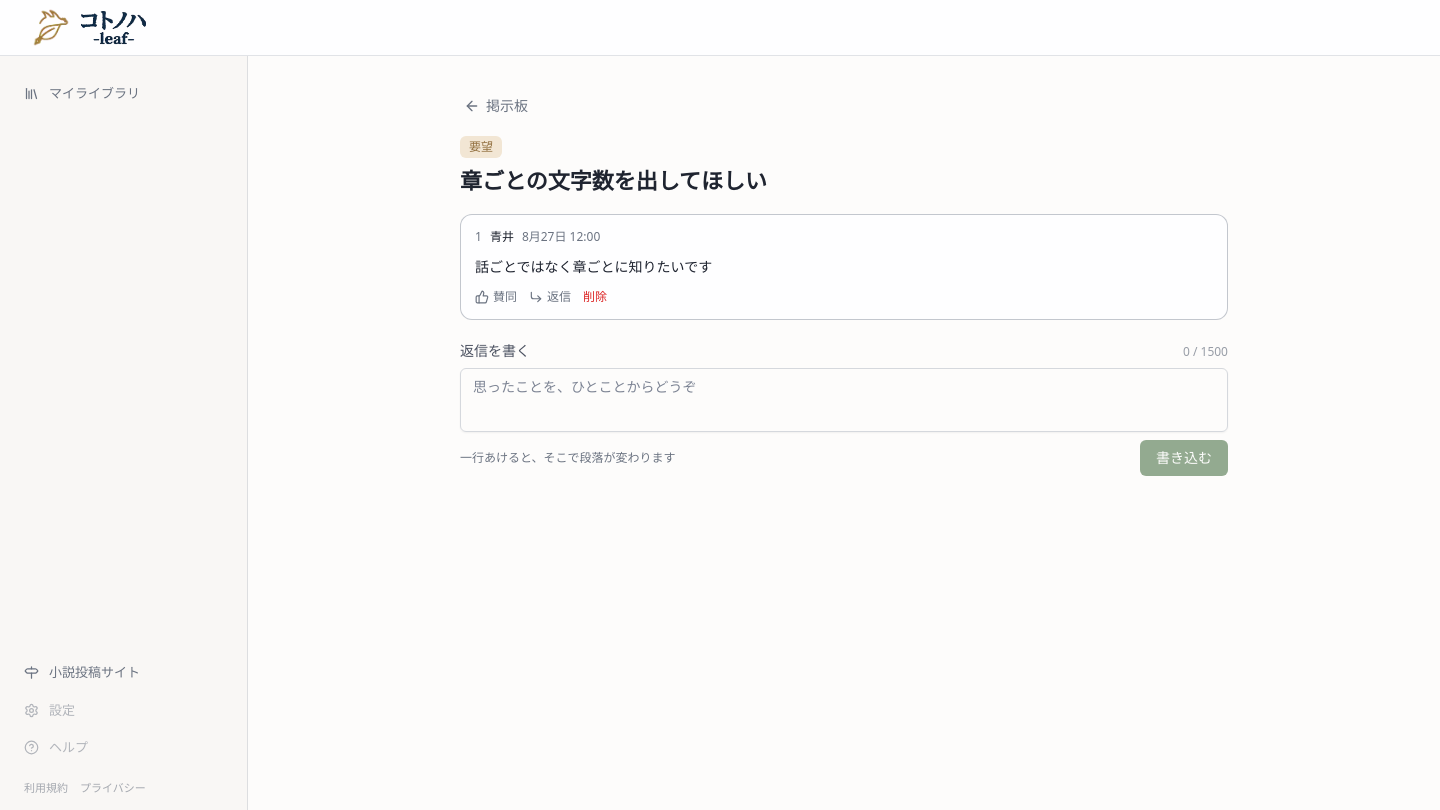
Test: ThreadView — 自分のスレの削除（D-BOARD-DELETE） › 返信が 1 件も無いスレでは「スレッドごと消える」と伝える
Click the button "削除" at (595, 297), box [583,289,607,305]
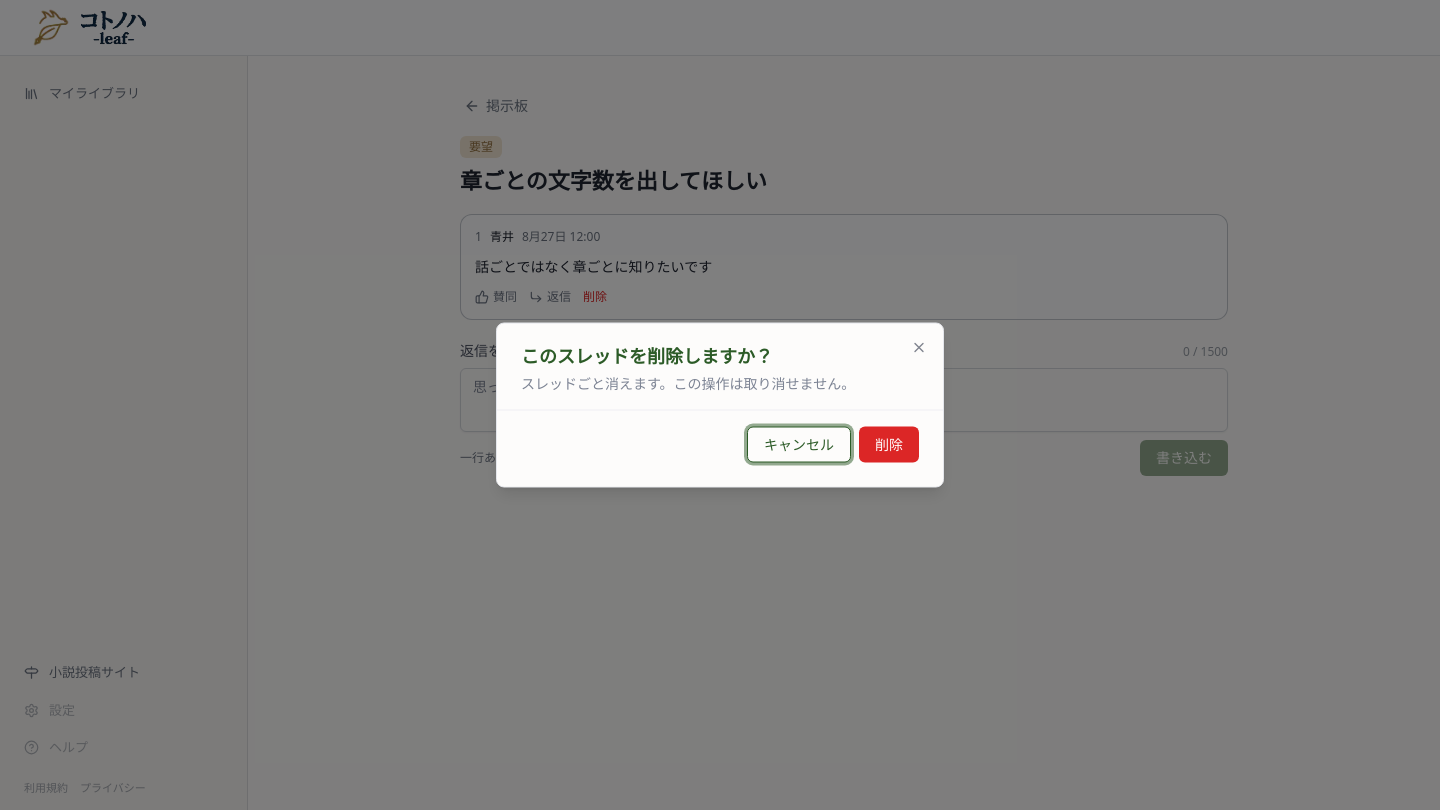
expect the text "スレッドごと消えます。この操作は取り消せません。" is shown: met, box [521,374,855,392]
